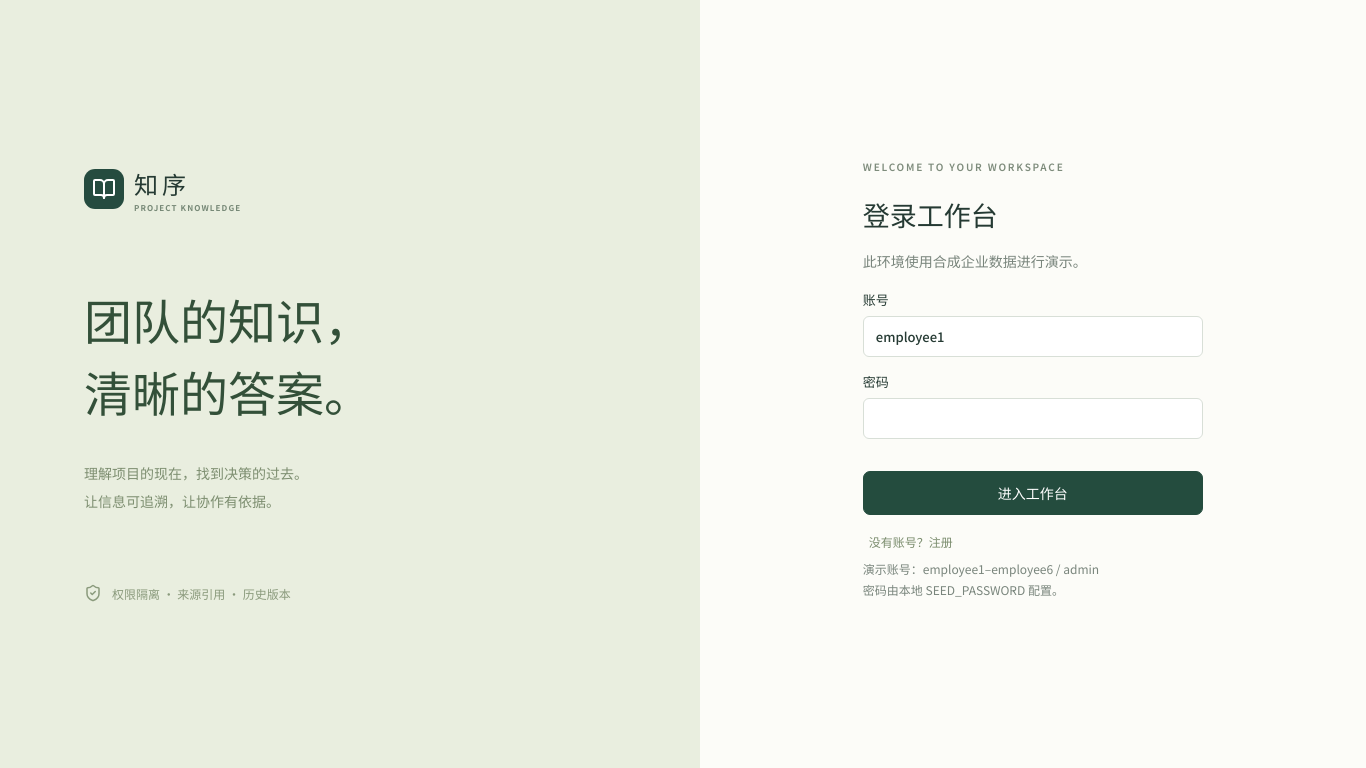
Test: 注册入口提交普通账号并登录
Click the button "没有账号？注册" at (911,541), box [863,524,959,558]
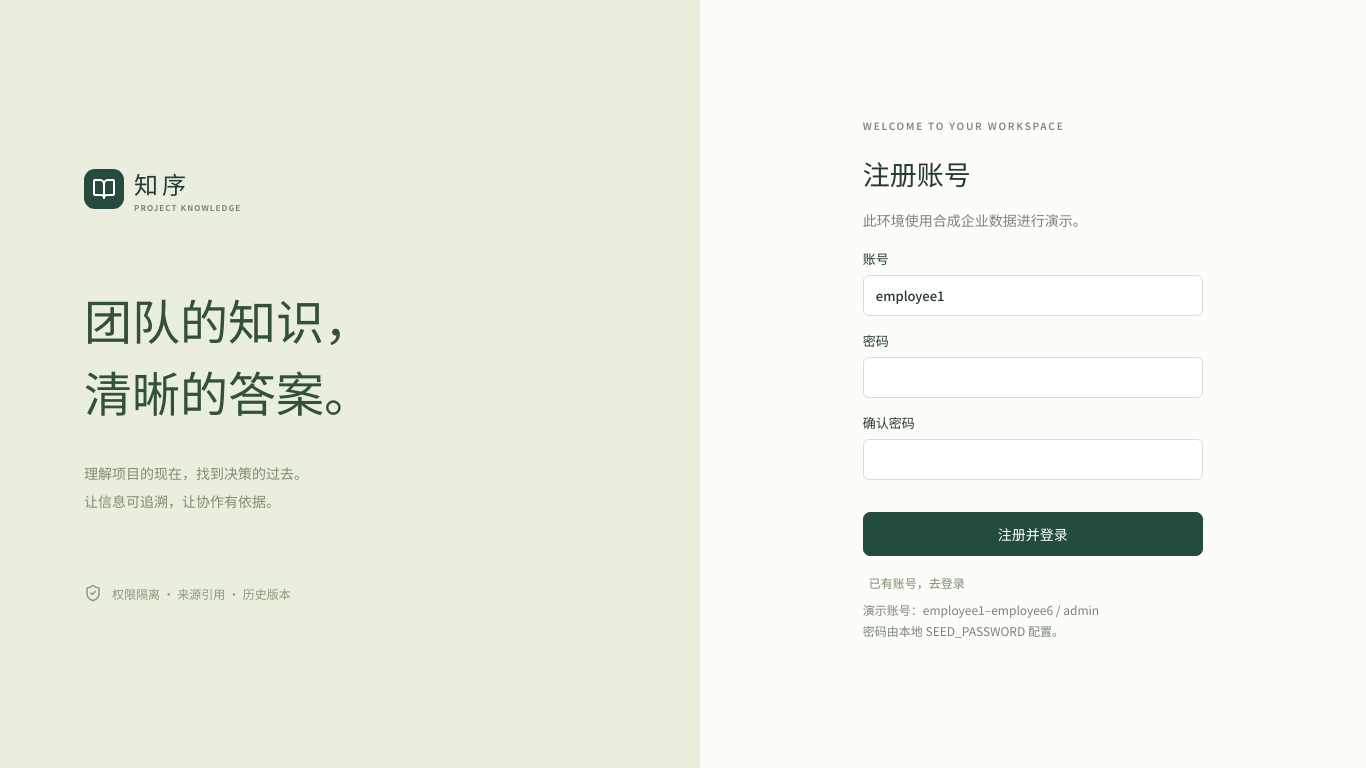
Replace the text in the field labelled "账号" with "new_user" at (1033,295), box [863,274,1203,316]
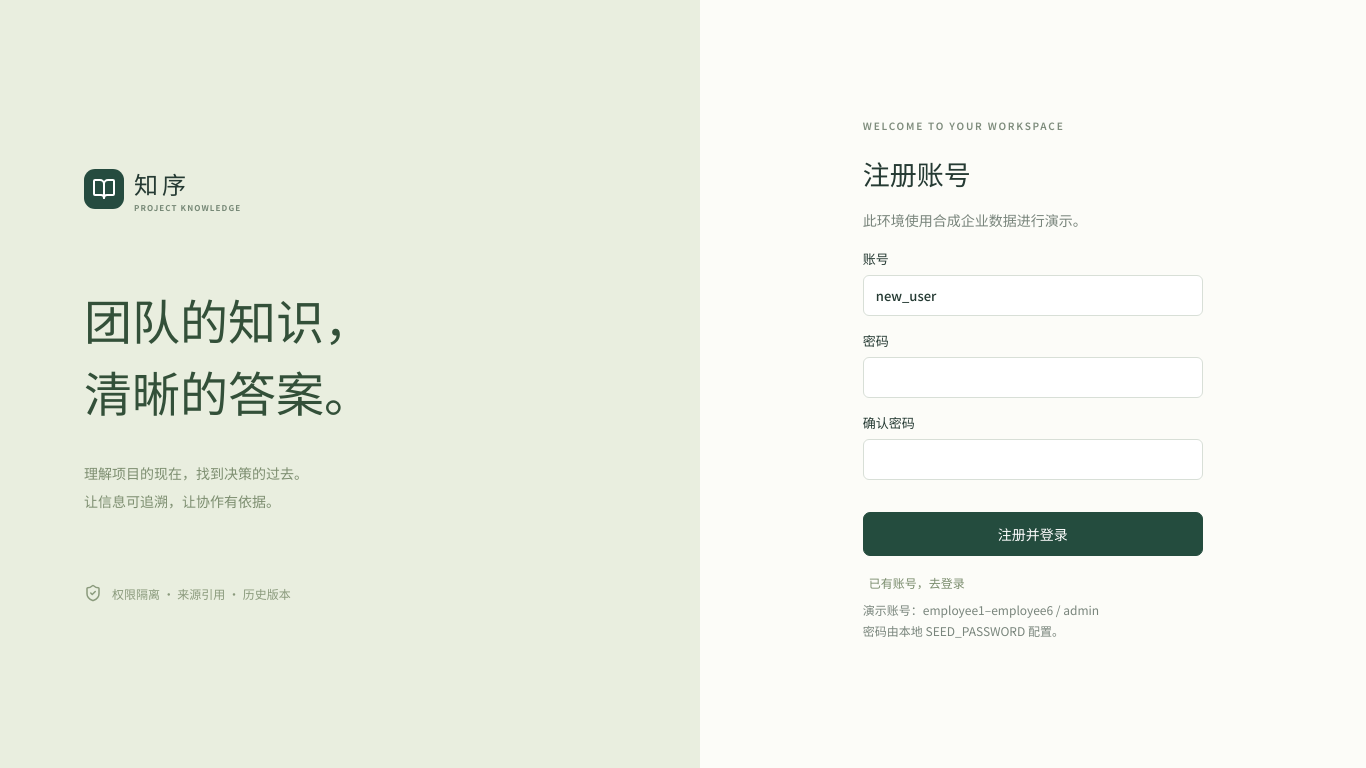
Type "123456" into the password field labelled "密码" at (1033,377), box [863,356,1203,398]
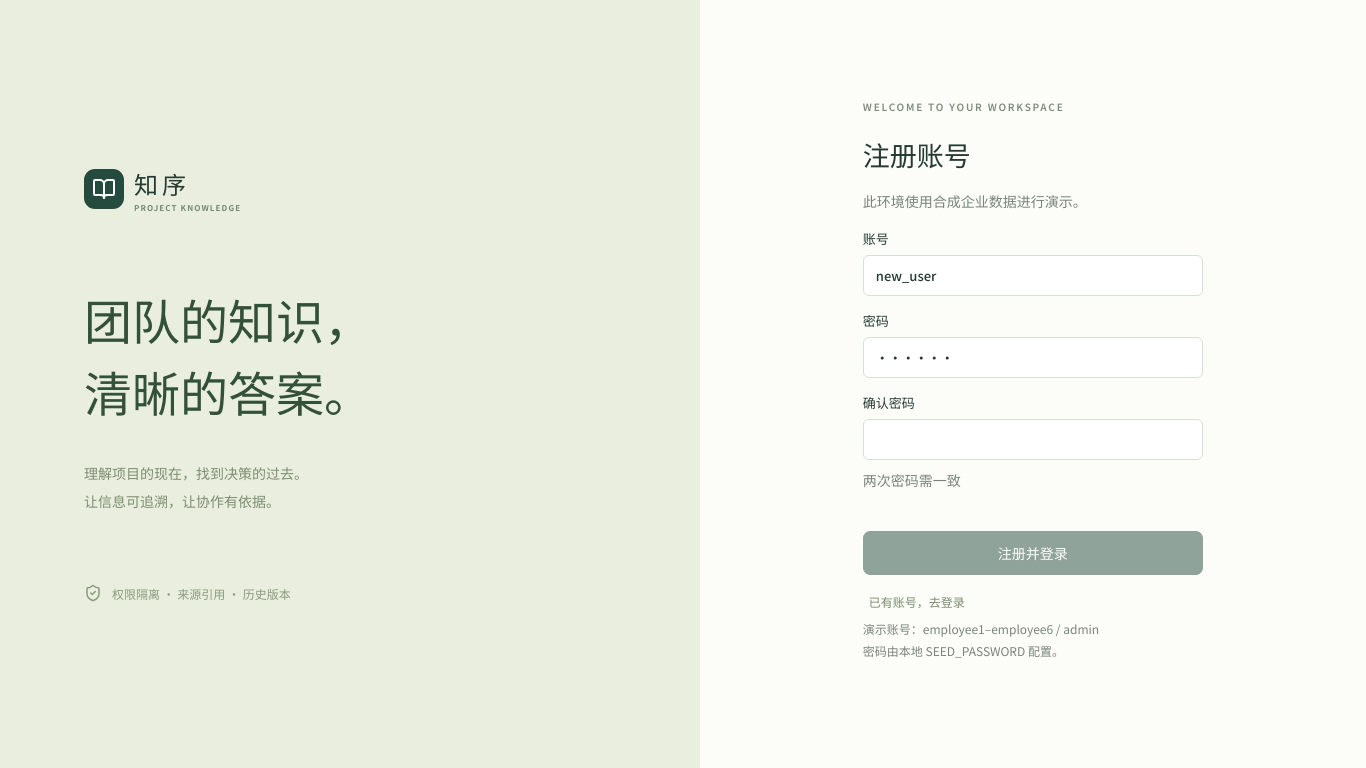
Type "123456" into the password field labelled "确认密码" at (1033,439), box [863,419,1203,460]
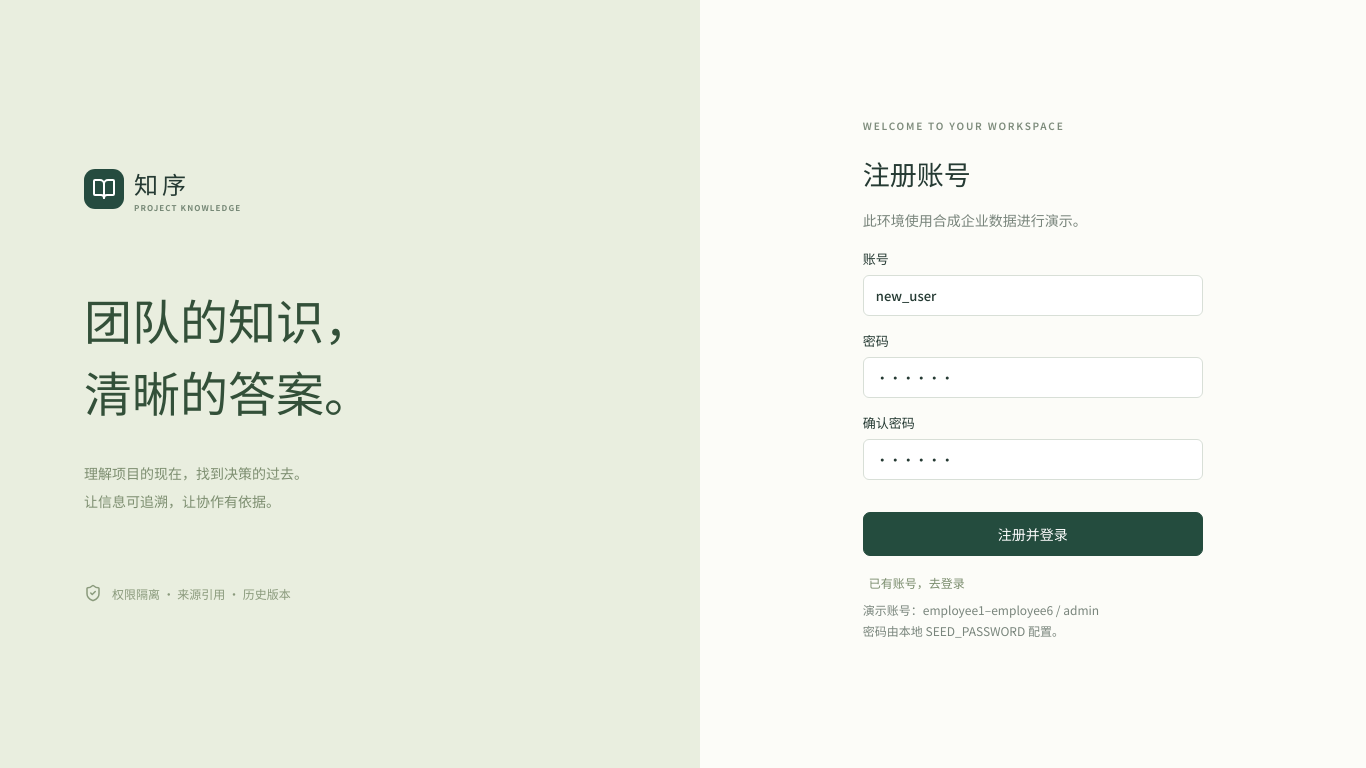
Click the button "注册并登录" at (1033,534), box [863,512,1203,556]
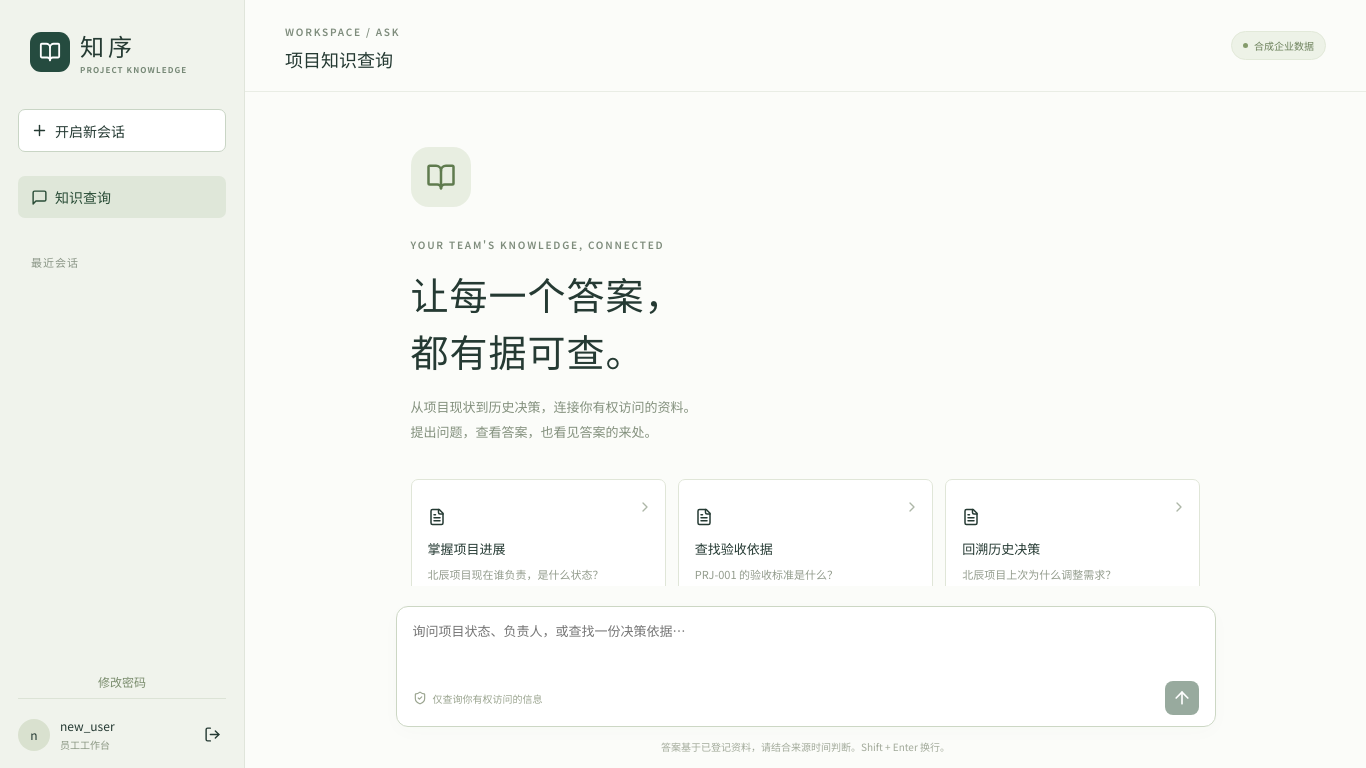
Result: the button "知识查询" is shown at [18,176,226,218]
